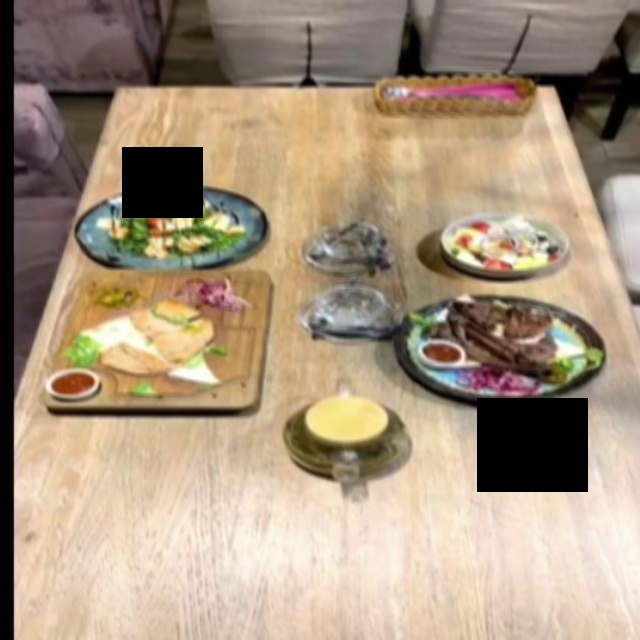meat: (37, 274, 266, 410), (390, 294, 606, 404)
salad: (71, 185, 265, 267), (438, 211, 570, 276)
tea: (280, 394, 409, 480)
